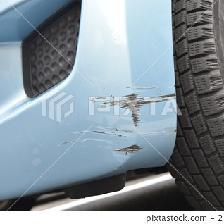bumper_scratch: (43, 67, 190, 179)
